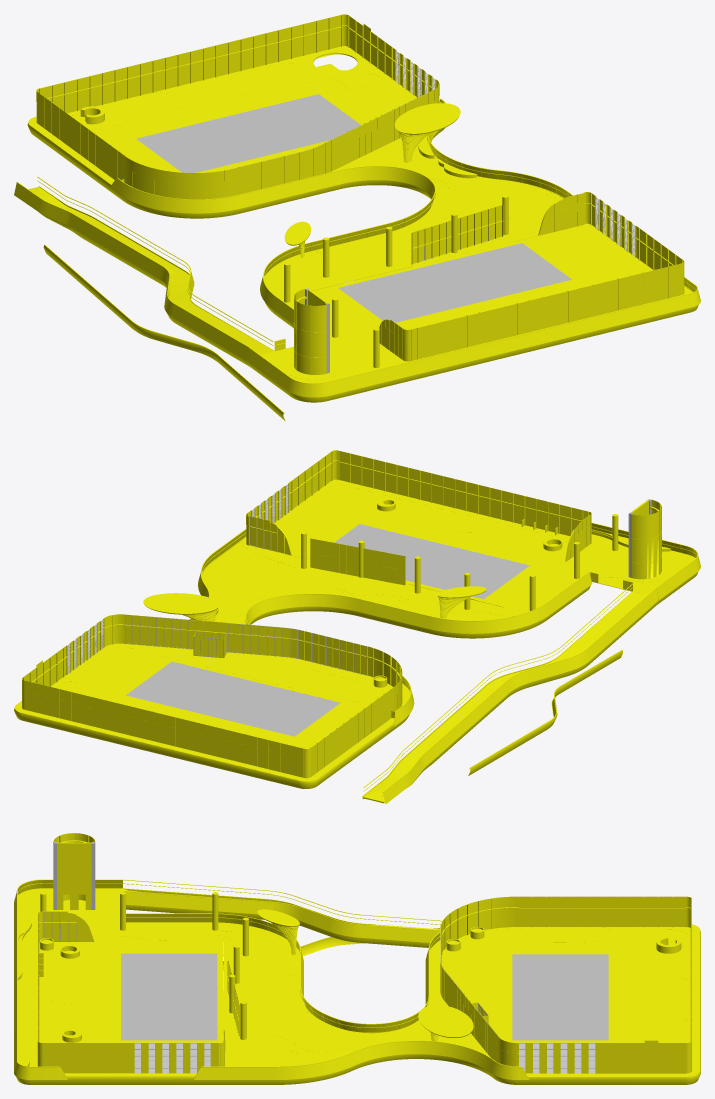
File: sm_hana_building_9f_out.glb
3 views of the same model, one above another, from view 1: azimuth 30°, elevation 25°; view 2: azimuth 150°, elevation 25°; view 3: azimuth 270°, elevation 25° (orthographic). The views are drawn at different scales.
Parts seen in each view (by area): view 1: sm_hana_building_9f_out; view 2: sm_hana_building_9f_out; view 3: sm_hana_building_9f_out.
Boxes of the visible parts, left/top/right/bottom form: sm_hana_building_9f_out: left=14, top=14, right=700, bottom=421; sm_hana_building_9f_out: left=14, top=450, right=700, bottom=804; sm_hana_building_9f_out: left=14, top=833, right=700, bottom=1084.
Size of the model in its own units: 64.34 by 21.73 by 98.31.
14 materials, 11 textured.
